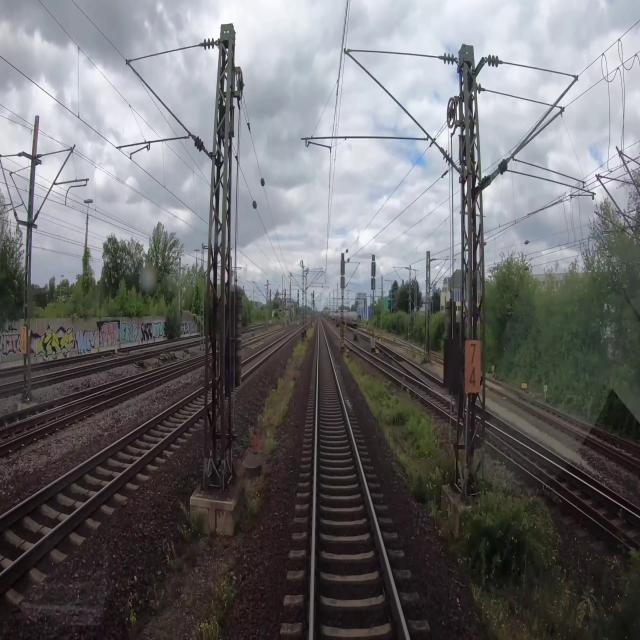Plant: (342, 349, 639, 639), (237, 319, 317, 514), (148, 502, 249, 639), (124, 598, 138, 636)
